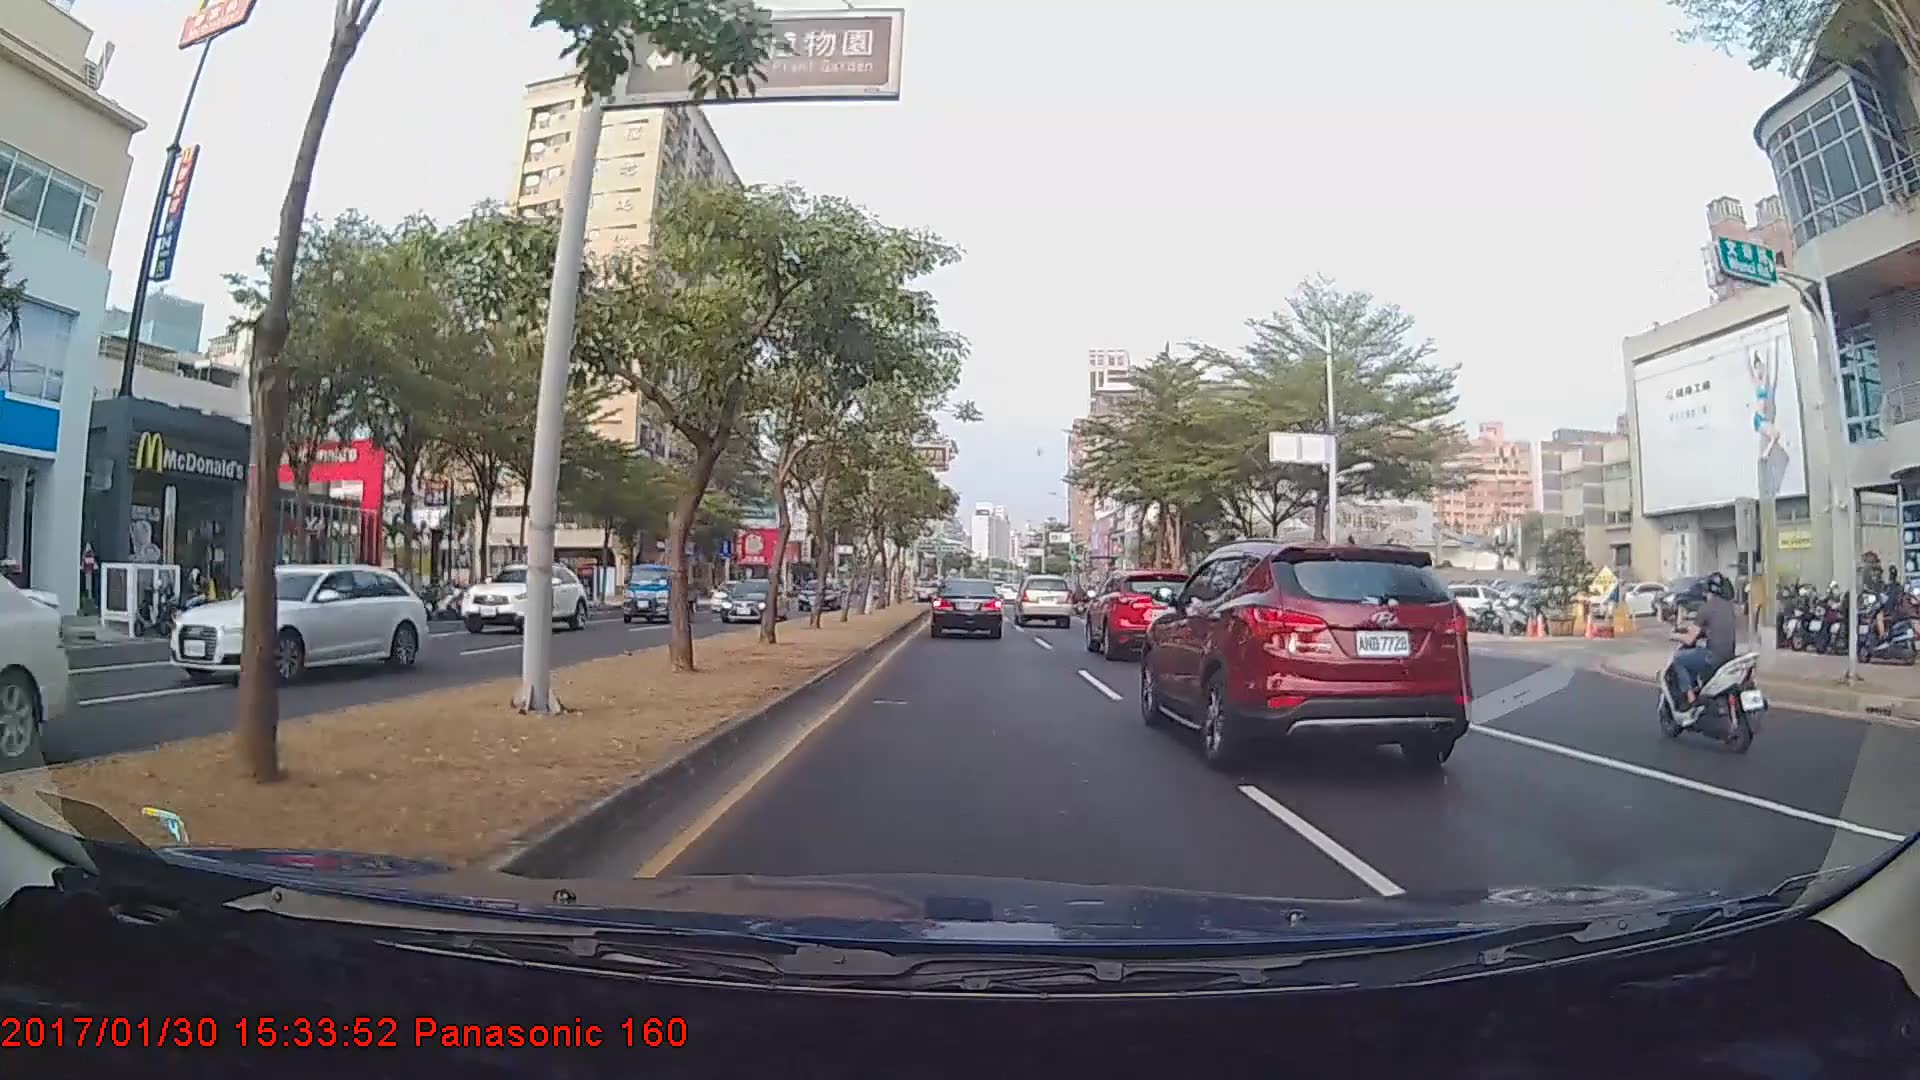rider: (1645, 568, 1767, 756)
vehicle: (1146, 542, 1464, 758), (165, 561, 432, 684), (1084, 571, 1210, 661), (462, 563, 593, 632), (620, 561, 695, 624), (930, 578, 1003, 639), (1013, 573, 1073, 629), (719, 577, 785, 624), (797, 575, 840, 611)
